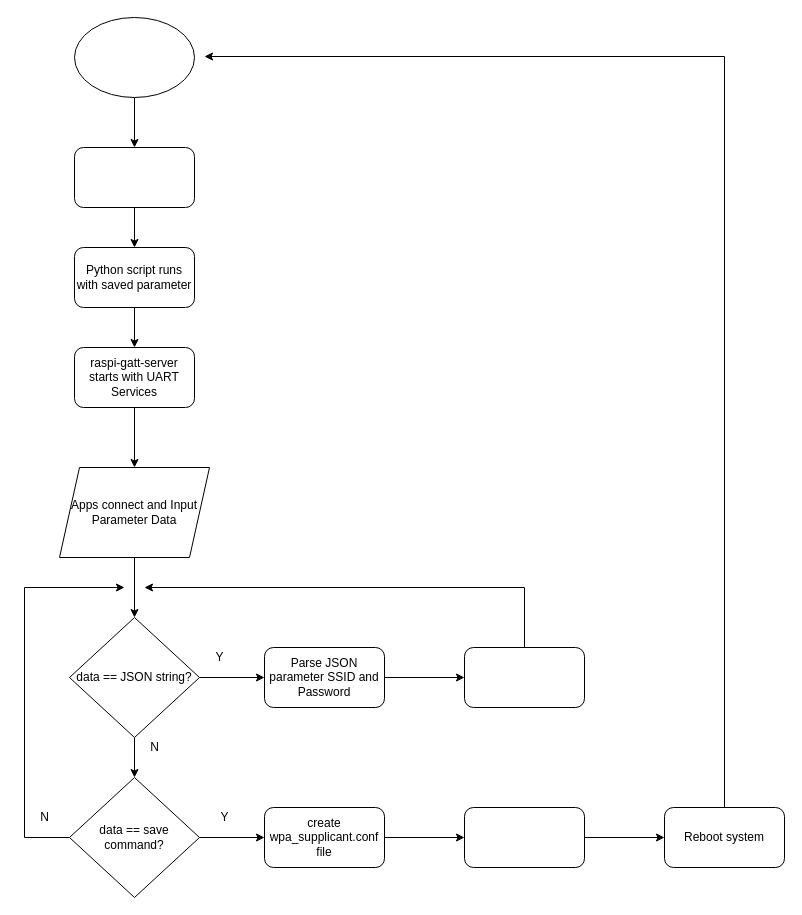
Some shapes in this 802 by 915 pixel diagram are drawn without their labels. The shapes that lost their labels are listed below. From the top down, each one's box as (x1, y1, x2, y2) in pixels, then its label:
(74, 16, 194, 98): Start/Boot
(74, 146, 194, 208): Auto start service file
(464, 646, 584, 708): Create wpa_supp string
(464, 806, 584, 868): Copy the conf to /etc/wpa_supplicant/ directory
